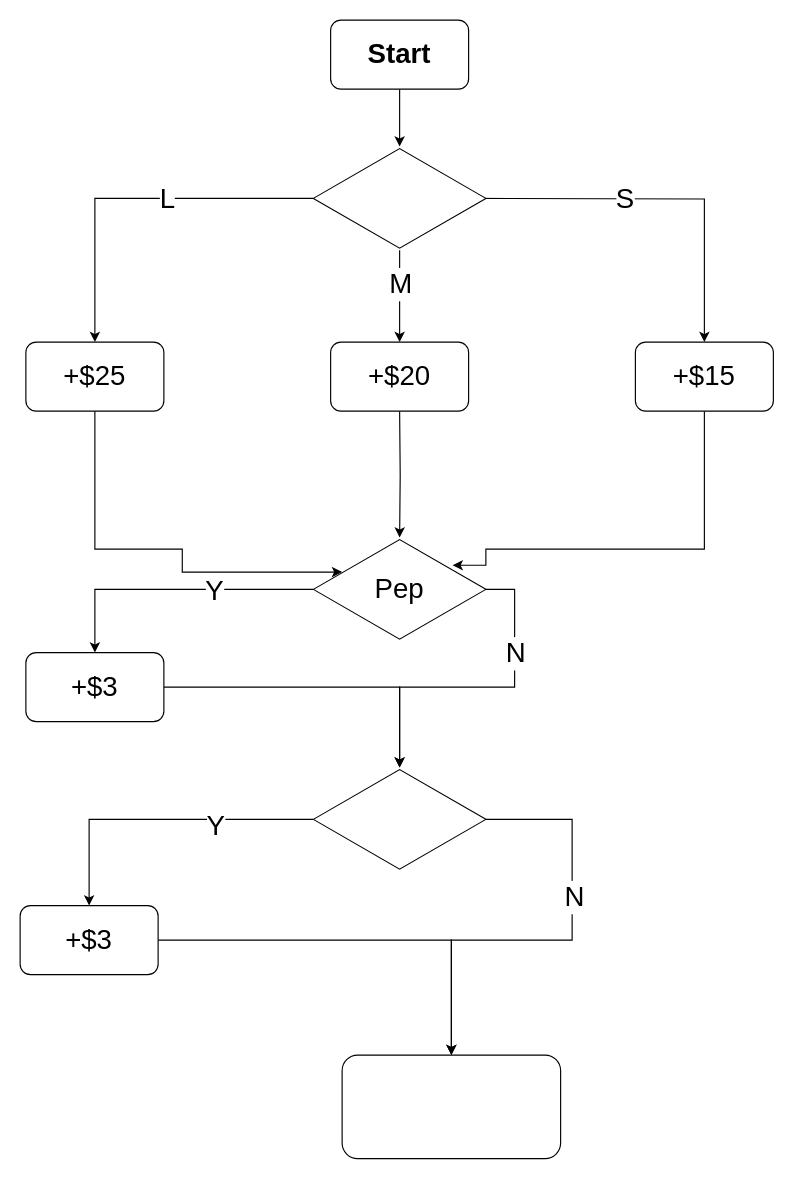
The diagram is 794 pixels wide and 1179 high, and some of its shapes have lost their labels. Here are the shapes that lost their labels. From the top down, the centre of each, then its label:
At point (399, 197): "Size".
At point (399, 818): "Cheese".
At point (451, 1106): "The total cost of your pizza is $x".
